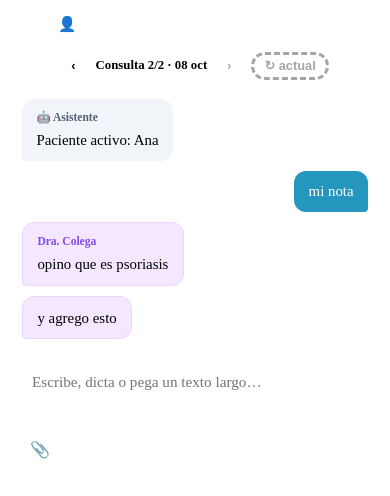
it: IntakeChat — consultas › en una consulta anterior: solo lectura, sin composer, y Secciones y Auto-form grises con motivo
What coordinates should you click on to do the following:
click the button with class "enav" showing "‹"
I would click on:
 (73, 66)
Its box is [61,55,86,77].
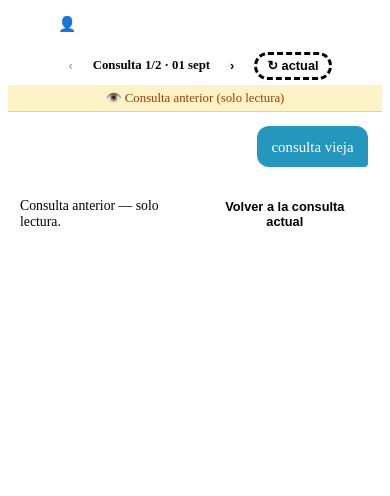
Check: the text with class "ep-label" shows "Consulta 1/2", box [93,58,210,72]
Check: the text "👁️ Consulta anterior (solo lectura)" is shown, box [8,85,382,112]
What coordinates should you click on to do the following:
click the button "Volver a la consulta actual"
I would click on:
 (285, 214)
Its box is [200,193,370,235].
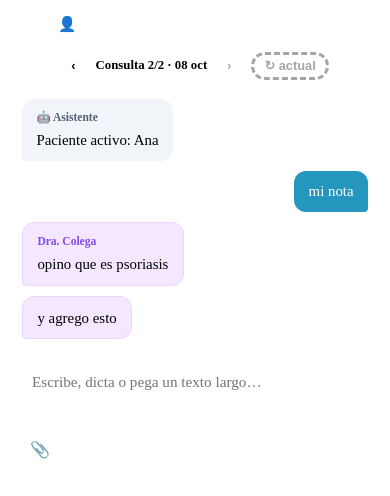
Check: the form with class "icomposer" is shown, box [8,353,382,479]
